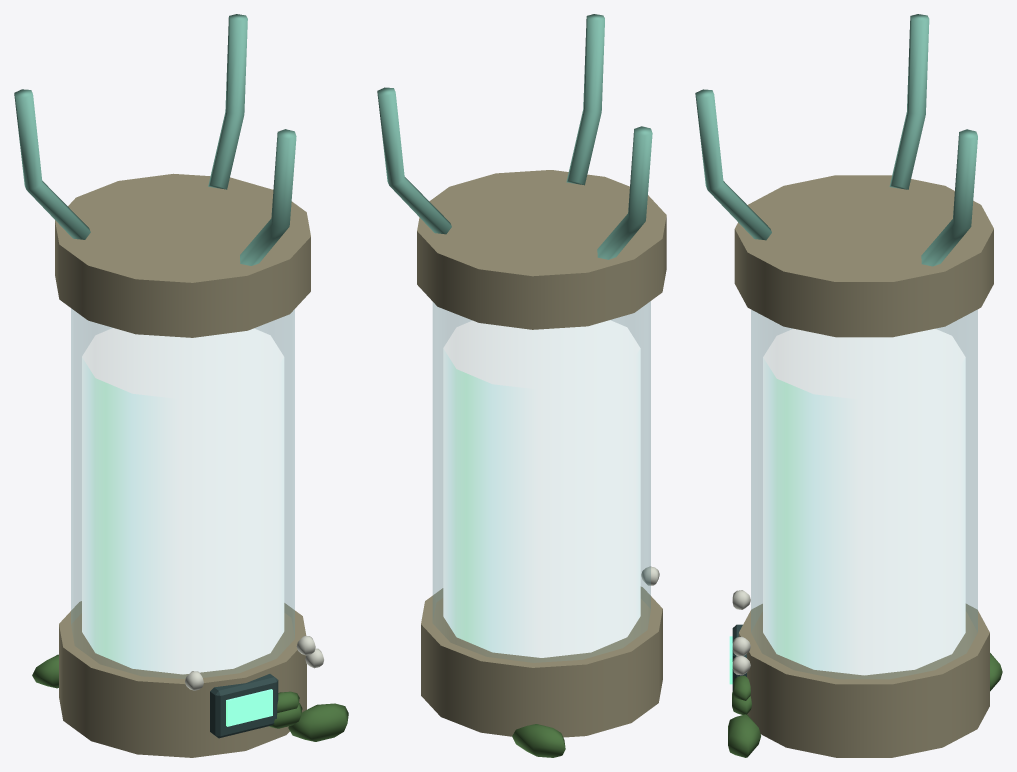
Rendered from dr_tank.glb.
The picture shows the model from 3 angles, left to right: view 1: azimuth 30°, elevation 25°; view 2: azimuth 150°, elevation 25°; view 3: azimuth 270°, elevation 25°; orthographic projection. The views are drawn at different scales.
Visible parts, largest first — view 1: dr_tank; view 2: dr_tank; view 3: dr_tank.
Boxes of the visible parts, left/top/right/bottom form: dr_tank: left=14, top=14, right=348, bottom=757; dr_tank: left=377, top=14, right=666, bottom=757; dr_tank: left=695, top=14, right=1002, bottom=757.
Size of the model in its own units: 1.46 by 3.46 by 1.52.
